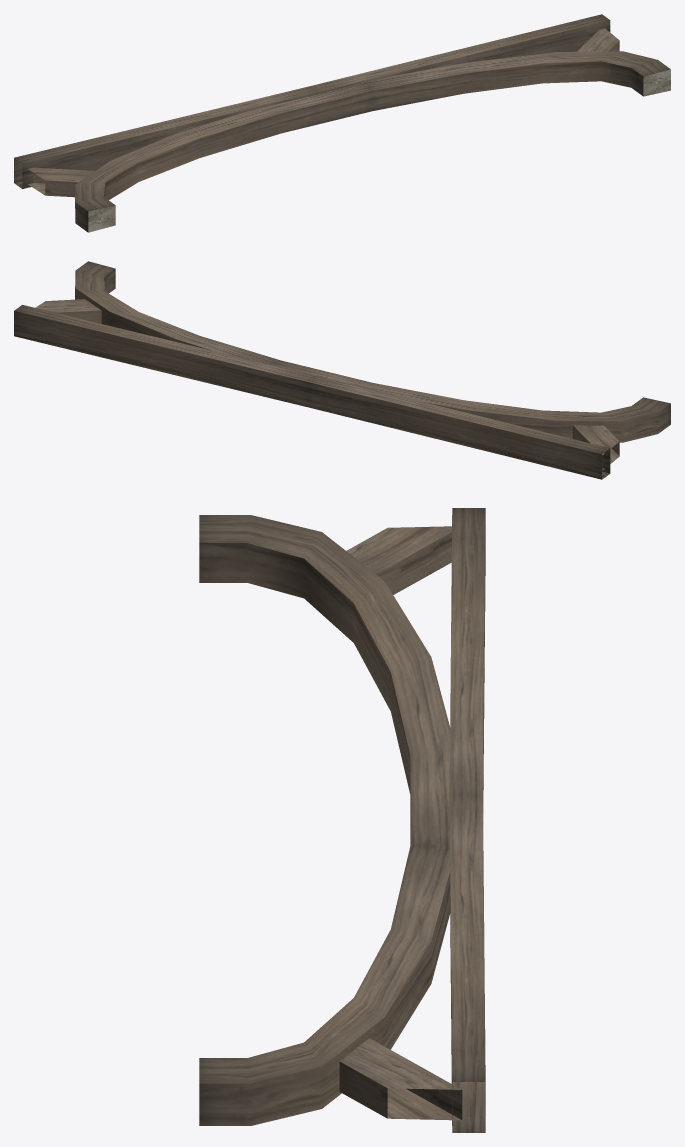
File: Arch_D.fbx
3 views of the same model, one above another, from view 1: azimuth 30°, elevation 25°; view 2: azimuth 150°, elevation 25°; view 3: azimuth 270°, elevation 25° (orthographic). The views are drawn at different scales.
Visible parts, largest first — view 1: Arch_D; view 2: Arch_D; view 3: Arch_D.
Part boxes in pixels (x1,y1,x2,y2): Arch_D: (14,14,670,232); Arch_D: (14,261,670,479); Arch_D: (199,508,485,1132).
Size of the model in its own units: 5.04 by 0.2079 by 1.06.
